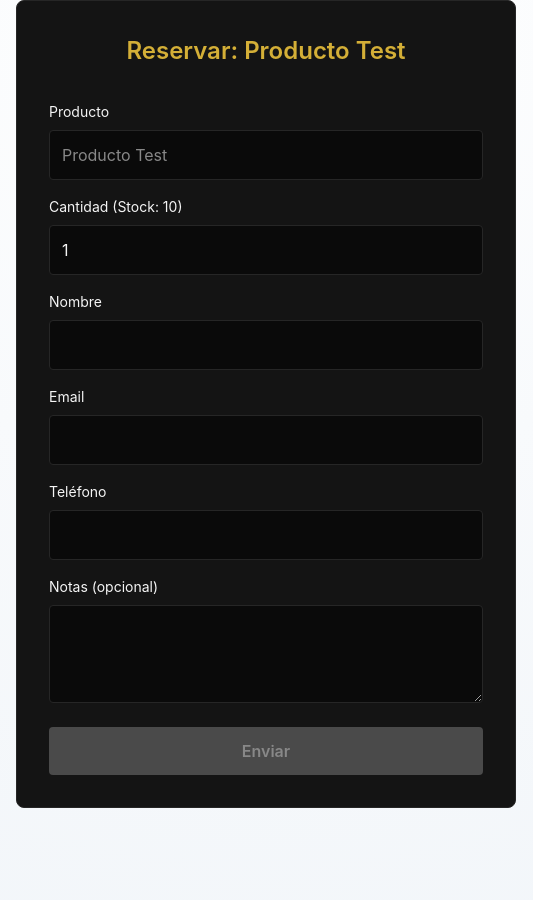
Scenario: ReservationForm Component › Validation › should validate email format
// Fill invalid email
Type "invalid-email" into the field labelled "Email".
click(266, 440); type("invalid-email")  # box [49,415,483,465]
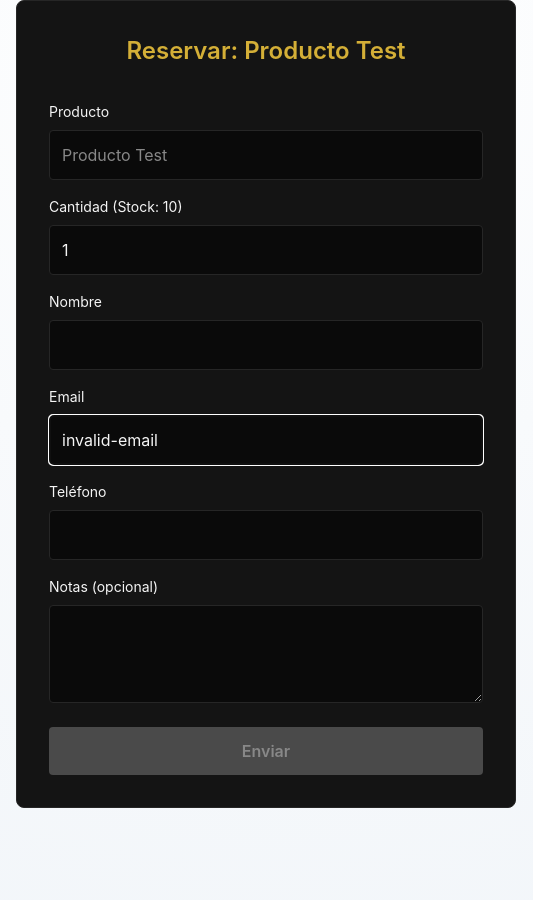
// Submit form
Submit the form with test id "reservation-form"
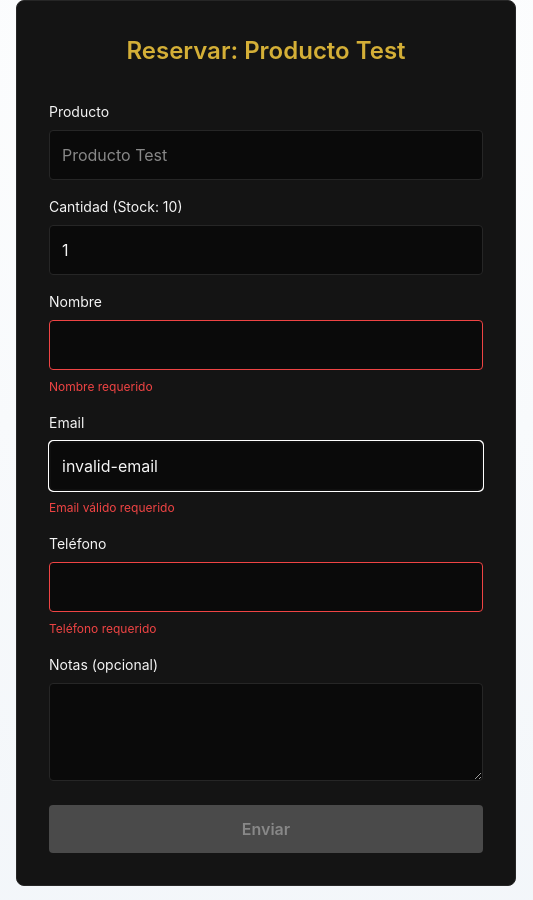
Expected: the text "Email válido requerido" is shown, [49,500,175,515]
